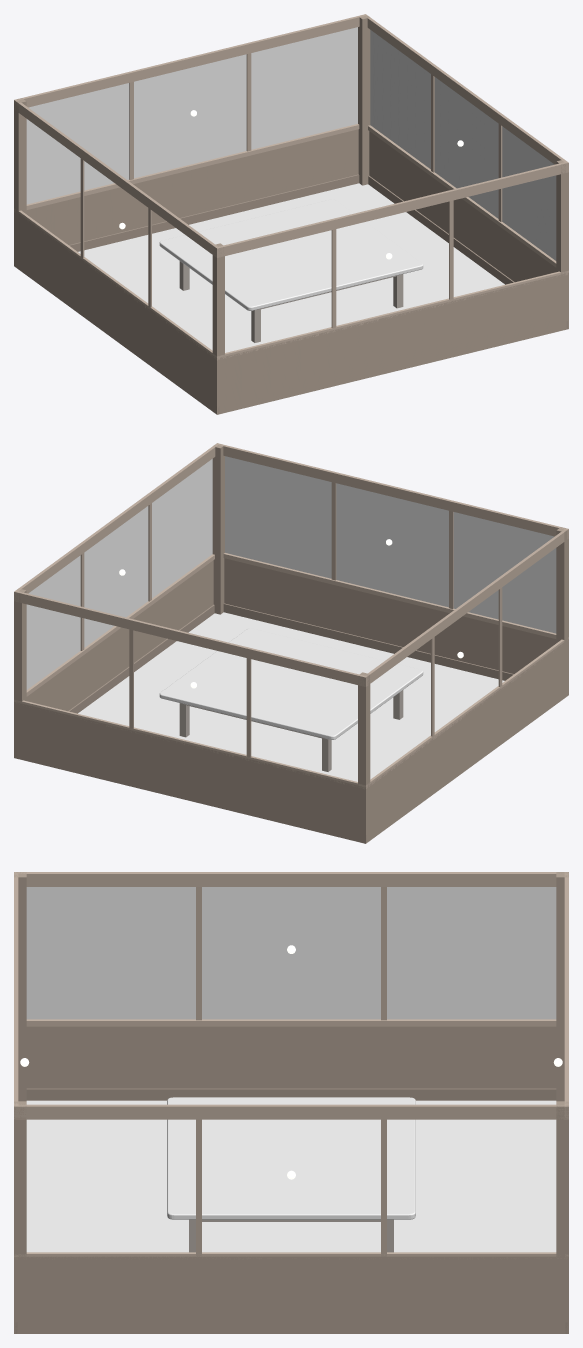
File: room.glb
3 views of the same model, one above another, from view 1: azimuth 30°, elevation 25°; view 2: azimuth 150°, elevation 25°; view 3: azimuth 270°, elevation 25° (orthographic). The views are drawn at different scales.
Parts seen in each view (by area): view 1: room_piece (×24), table_top; view 2: room_piece (×23), table_top; view 3: room_piece (×19), table_top.
Part boxes in pixels (box(x1,y1,x2,y2)): room_piece (×24): box(14, 14, 568, 414); table_top: box(159, 199, 423, 310); room_piece (×23): box(14, 443, 568, 843); table_top: box(159, 628, 423, 739); room_piece (×19): box(14, 872, 568, 1333); table_top: box(167, 1097, 415, 1219).
Size of the model in its own units: 124 by 56 by 124.
